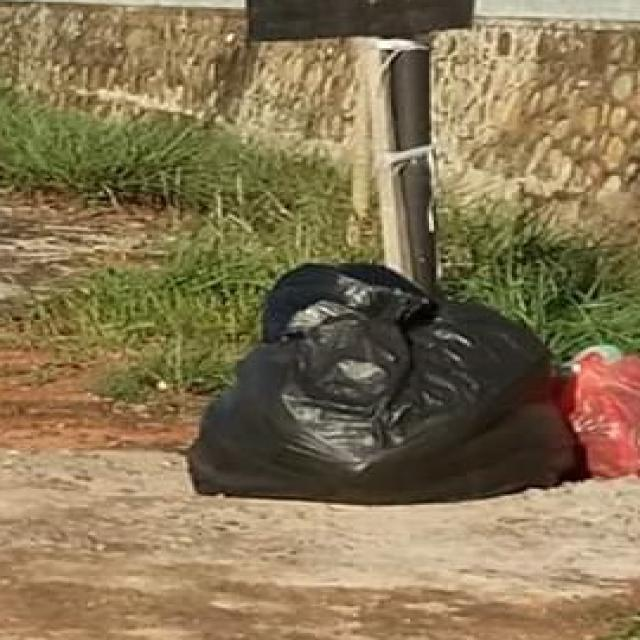Trashbag: (166, 267, 598, 515)
